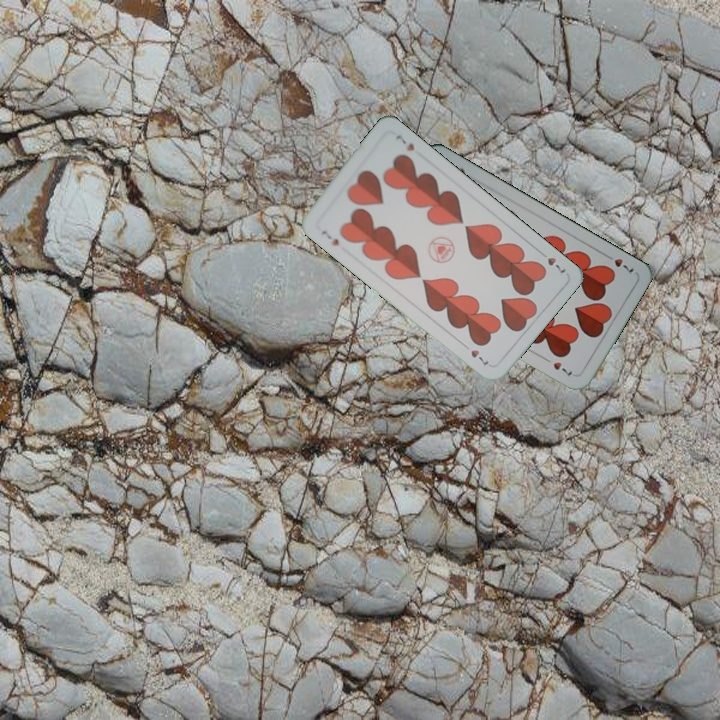H7: (534, 246, 568, 276), (600, 250, 637, 275), (318, 225, 342, 248)
